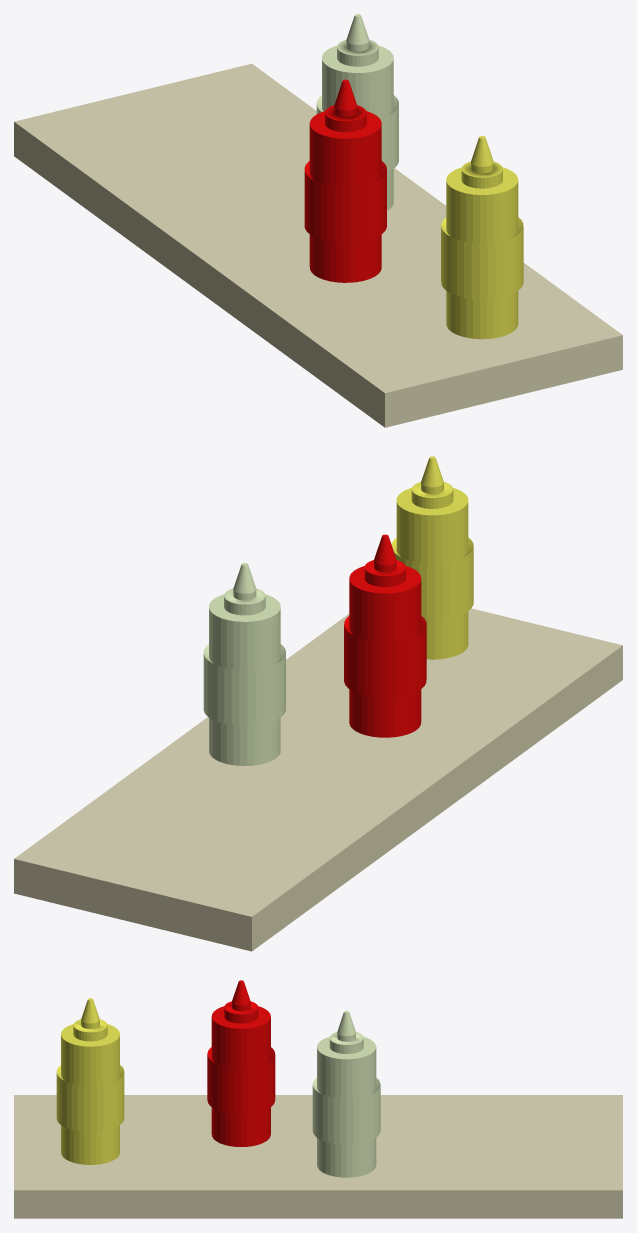
The model's file is shelf_1x1.fbx.
3 views of the same model, one above another, from view 1: azimuth 30°, elevation 25°; view 2: azimuth 150°, elevation 25°; view 3: azimuth 270°, elevation 25° (orthographic). The views are drawn at different scales.
Parts seen in each view (by area): view 1: raf_1x1; view 2: raf_1x1; view 3: raf_1x1.
Boxes of the visible parts, box(x1,y1,x2,y2) form: raf_1x1: box(14, 14, 622, 427); raf_1x1: box(14, 456, 622, 951); raf_1x1: box(14, 980, 622, 1218).
Size of the model in its own units: 35.14 by 31.22 by 94.93.
